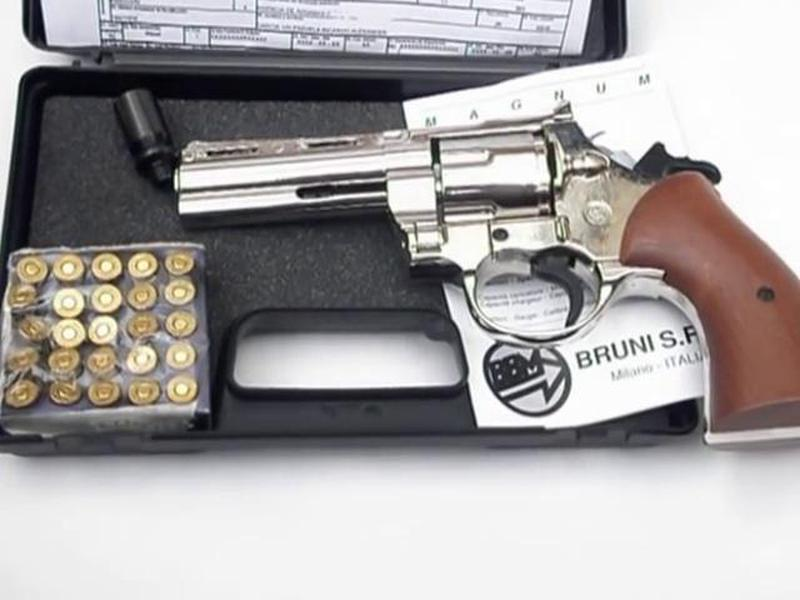Revolver: (194, 90, 697, 384)
